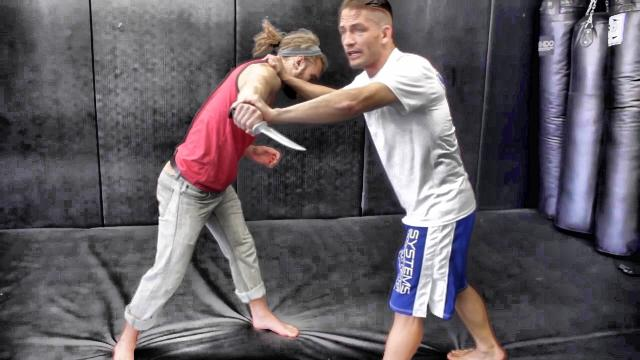knife: (220, 99, 310, 153)
